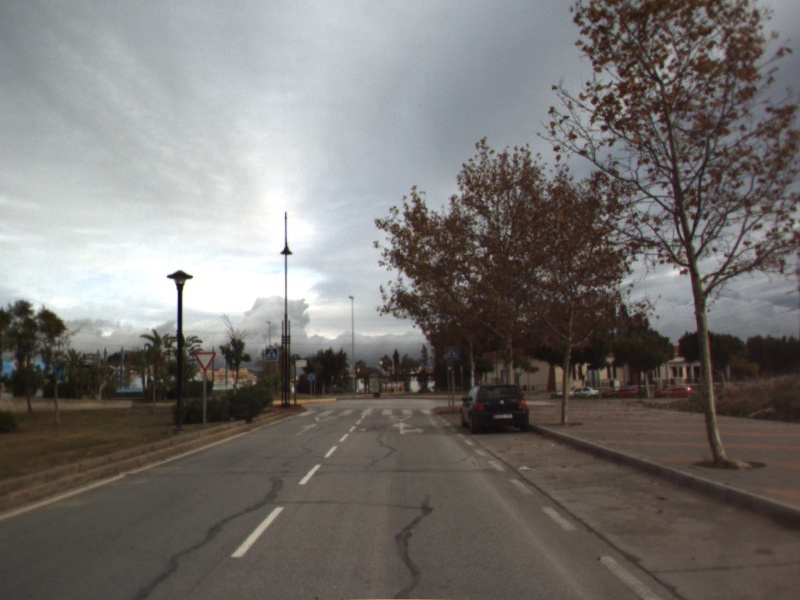STRAIGHT: (294, 421, 322, 437)
STRAIGHT_RIGHT: (390, 420, 426, 436)
